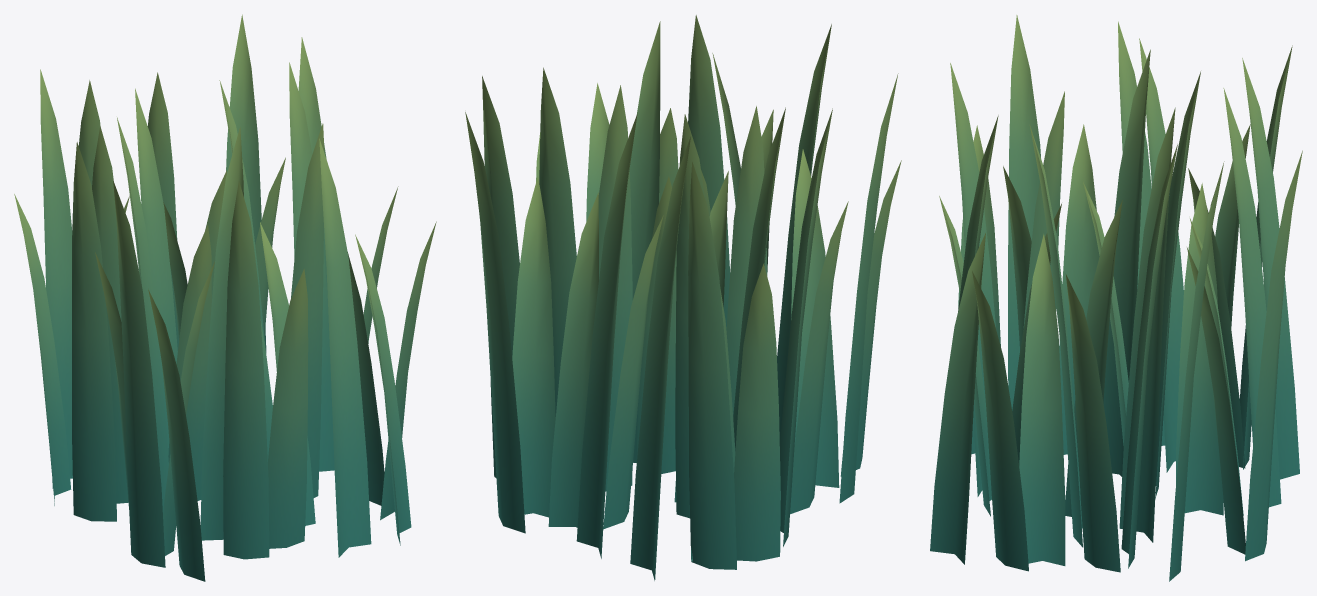
Rendered from Grass 2.fbx.
3 renders of one model, left to right at view 1: azimuth 30°, elevation 25°; view 2: azimuth 150°, elevation 25°; view 3: azimuth 270°, elevation 25°, orthographic. The views are drawn at different scales.
Parts seen in each view (by area): view 1: Grass 2; view 2: Grass 2; view 3: Grass 2.
Part boxes in pixels (box(x1,y1,x2,y2)): Grass 2: box(14, 14, 436, 581); Grass 2: box(465, 15, 901, 580); Grass 2: box(930, 15, 1302, 581).
Bounding box in the file's own units: 24.32 × 29.92 × 24.44.
Materials: 1 (1 with a texture image).
